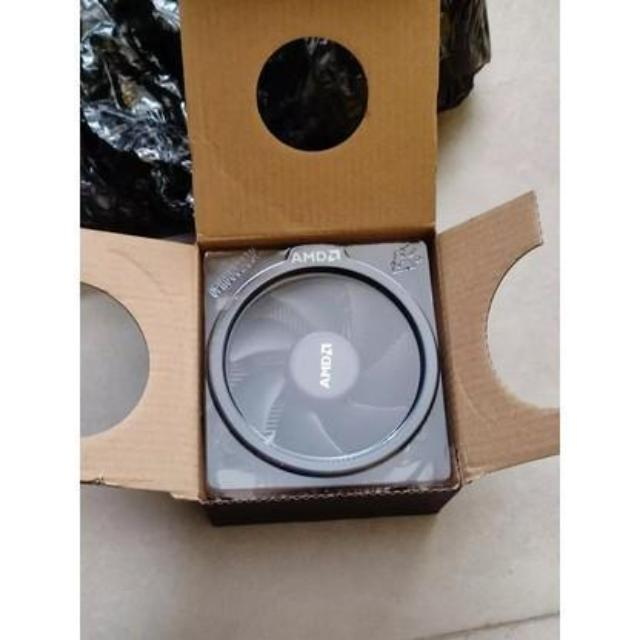CPU_Fan: (198, 242, 453, 498)
